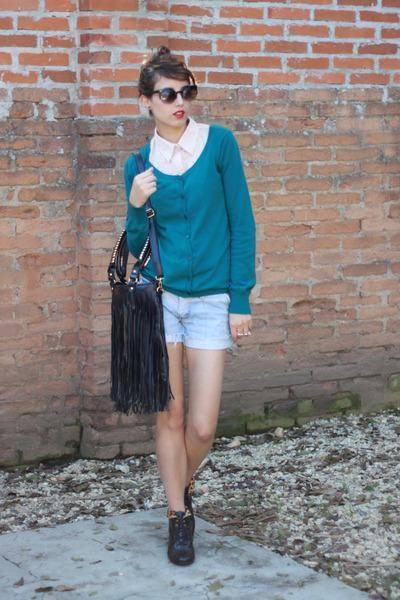bag: (110, 231, 171, 415)
shirt: (124, 117, 255, 323)
shoe: (167, 517, 194, 566)
shorts: (162, 289, 250, 349)
sunglass: (152, 73, 197, 103)
